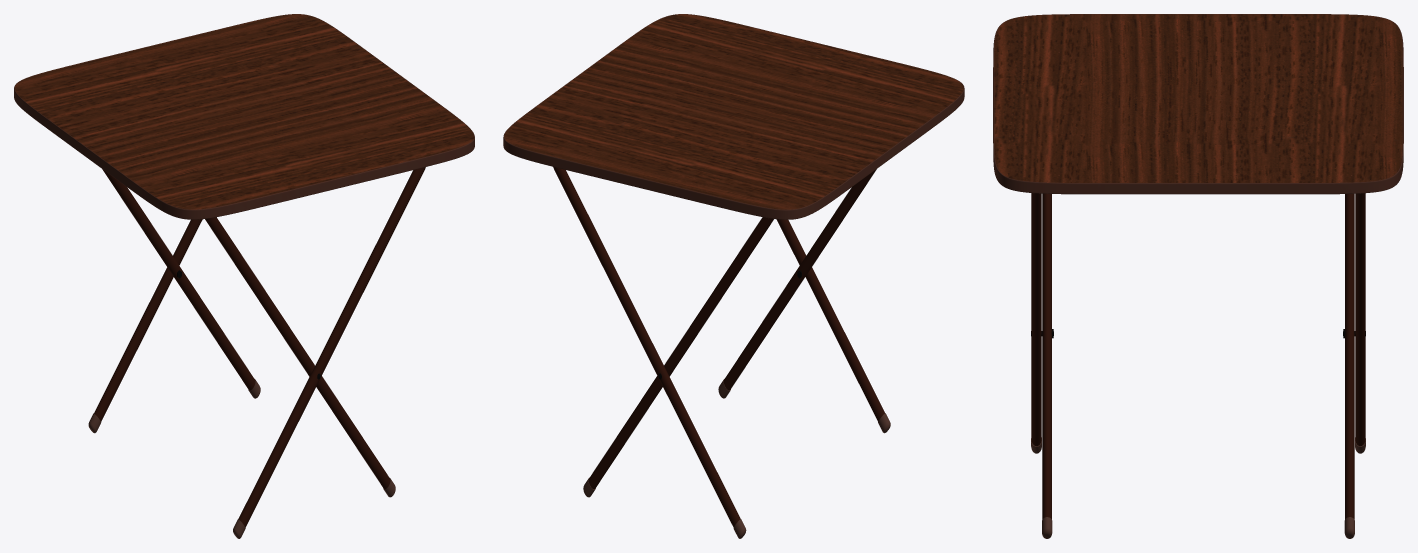
File: Table-2048.glb
The picture shows the model from 3 angles, left to right: view 1: azimuth 30°, elevation 25°; view 2: azimuth 150°, elevation 25°; view 3: azimuth 270°, elevation 25°; orthographic projection. The views are drawn at different scales.
Parts seen in each view (by area): view 1: Table; view 2: Table; view 3: Table.
Boxes of the visible parts, x1,y1,x2,y2 form: Table: (14, 14, 474, 538); Table: (503, 14, 964, 538); Table: (993, 14, 1403, 538).
Size of the model in its own units: 0.3539 by 0.3869 by 0.3622.
Materials: 1 (1 with a texture image).
